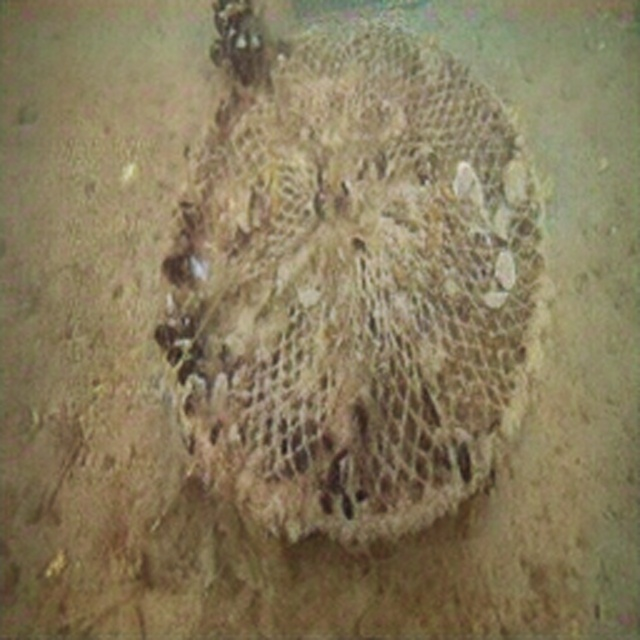mine: (164, 19, 548, 542)
